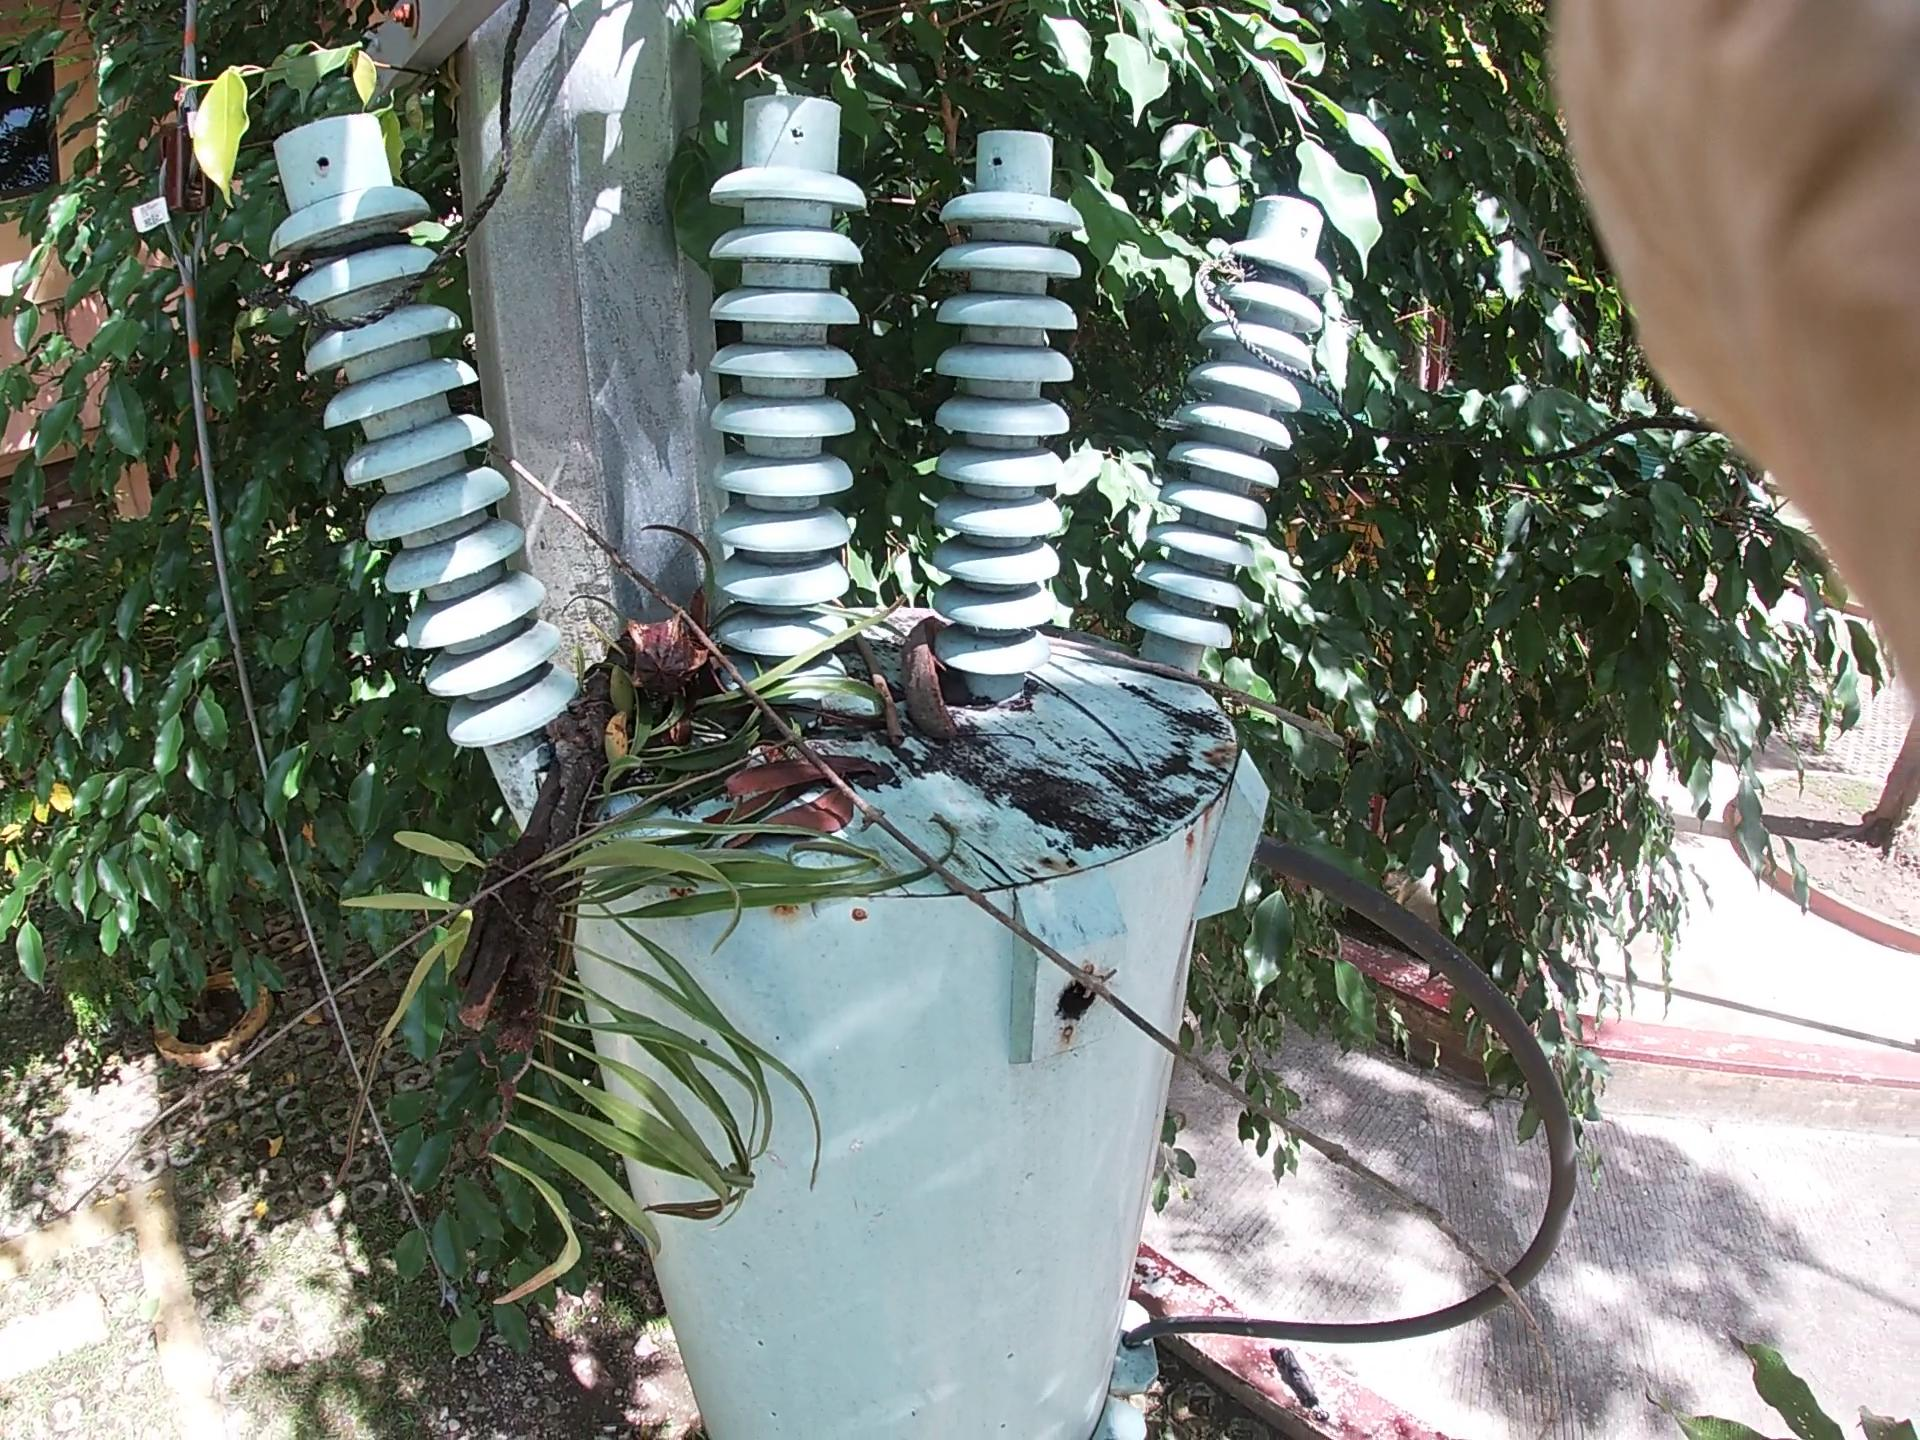branch with leaves: (469, 498, 782, 1234)
leaf: (594, 9, 1336, 393)
mahogany fruit: (605, 591, 726, 717), (921, 613, 996, 773)
tree branch: (461, 460, 1553, 1275), (1033, 594, 1388, 821), (830, 449, 897, 820)
